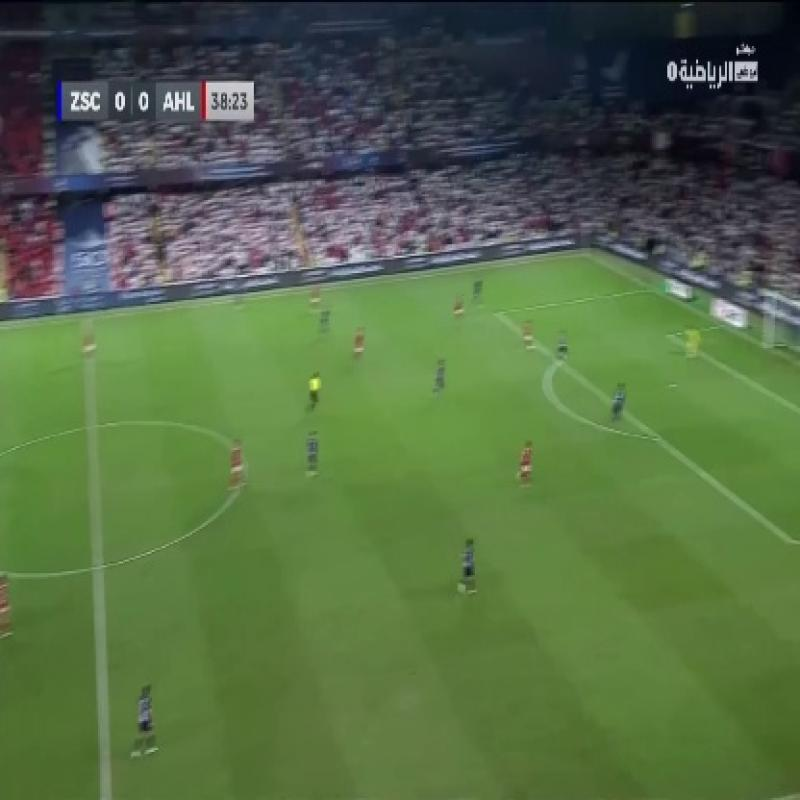1: (571, 246, 594, 266)
10: (550, 350, 566, 369)
11: (648, 425, 666, 448)
12: (781, 527, 800, 556)
13: (71, 312, 104, 329)
14: (77, 408, 106, 442)
15: (78, 544, 112, 587)
2: (643, 280, 662, 301)
3: (711, 318, 732, 334)
7: (658, 325, 681, 344)
9: (486, 302, 506, 323)
c: (230, 454, 261, 476)
